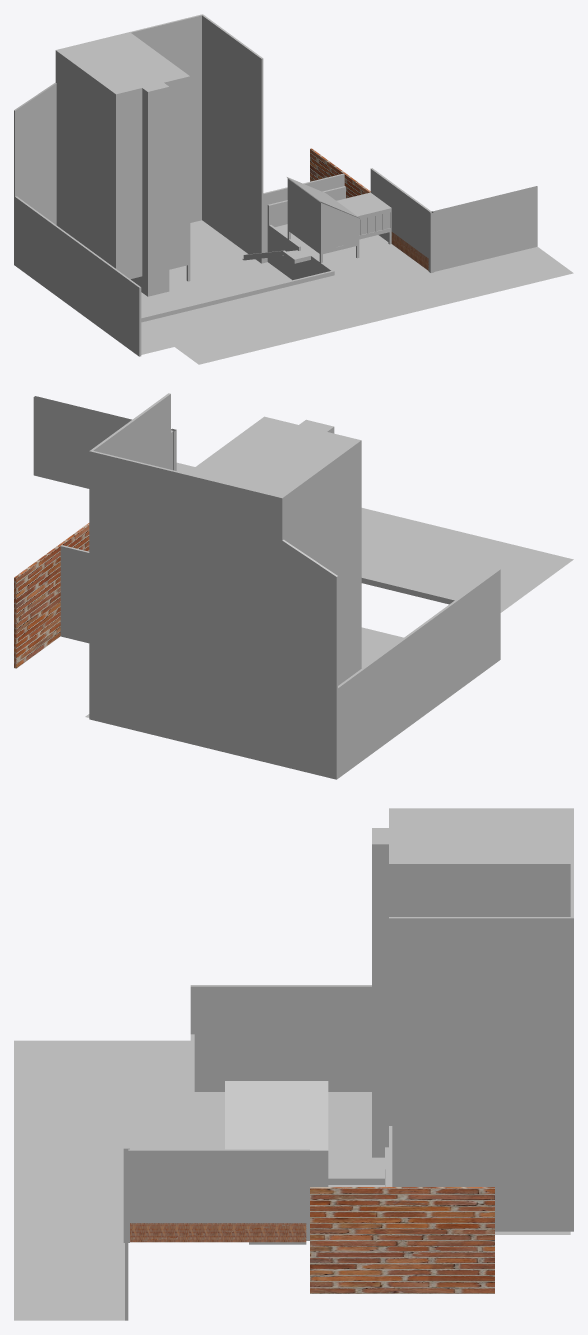
File: cu_engineering.obj
The picture shows the model from 3 angles, top to bottom: view 1: azimuth 30°, elevation 25°; view 2: azimuth 150°, elevation 25°; view 3: azimuth 270°, elevation 25°; orthographic projection. The views are drawn at different scales.
Parts seen in each view (by area): view 1: Cube.032_Cube.036, Cube.030_Cube.034, Cube.037_Cube.000, Plane.011_Plane.001, Cube.054_Cube.056, Cube.036_Cube.040, Cube.038_Cube.008, Cube.033_Cube.037, Plane.004_Plane.006, Plane.009_Plane.011, Cube.010_Cube.012, Plane.010_Plane.012 (+15 smaller); view 2: Cube.032_Cube.036, Cube.033_Cube.037, Cube.037_Cube.000, Cube.038_Cube.008, Plane.011_Plane.001, Cube.054_Cube.056, Cube.017_Cube.019, Cube.030_Cube.034, Plane.004_Plane.006, Cube.021_Cube.023, Cube.039_Cube.025, Plane.009_Plane.011 (+2 smaller); view 3: Cube.030_Cube.034, Cube.017_Cube.019, Cube.032_Cube.036, Cube.037_Cube.000, Plane.011_Plane.001, Cube.031_Cube.035, Cube.010_Cube.012, Plane.004_Plane.006, Cube.036_Cube.040, Plane.009_Plane.011, Plane.015, Plane.013 (+3 smaller).
Part boxes in pixels (bbox=[...]): Cube.032_Cube.036: bbox=[55, 32, 190, 279]; Cube.030_Cube.034: bbox=[201, 14, 263, 263]; Cube.037_Cube.000: bbox=[15, 196, 141, 356]; Plane.011_Plane.001: bbox=[163, 291, 389, 364]; Cube.054_Cube.056: bbox=[432, 186, 537, 271]; Cube.036_Cube.040: bbox=[130, 74, 169, 296]; Cube.038_Cube.008: bbox=[14, 82, 56, 265]; Cube.033_Cube.037: bbox=[130, 14, 201, 222]; Plane.004_Plane.006: bbox=[141, 276, 353, 338]; Plane.009_Plane.011: bbox=[141, 262, 291, 354]; Cube.010_Cube.012: bbox=[287, 177, 359, 254]; Plane.010_Plane.012: bbox=[141, 220, 260, 292]; Cube.032_Cube.036: bbox=[185, 416, 361, 744]; Cube.033_Cube.037: bbox=[91, 450, 186, 742]; Cube.037_Cube.000: bbox=[338, 568, 500, 778]; Cube.038_Cube.008: bbox=[282, 539, 337, 779]; Plane.011_Plane.001: bbox=[361, 508, 573, 594]; Cube.054_Cube.056: bbox=[33, 396, 172, 488]; Cube.017_Cube.019: bbox=[14, 523, 89, 668]; Cube.030_Cube.034: bbox=[89, 393, 170, 719]; Plane.004_Plane.006: bbox=[361, 554, 525, 612]; Cube.021_Cube.023: bbox=[60, 545, 89, 643]; Cube.039_Cube.025: bbox=[185, 721, 282, 766]; Plane.009_Plane.011: bbox=[361, 627, 403, 668]; Cube.030_Cube.034: bbox=[389, 917, 573, 1231]; Cube.017_Cube.019: bbox=[310, 1187, 494, 1293]; Cube.032_Cube.036: bbox=[389, 808, 573, 916]; Cube.037_Cube.000: bbox=[190, 985, 371, 1091]; Plane.011_Plane.001: bbox=[14, 1040, 124, 1183]; Cube.031_Cube.035: bbox=[128, 1149, 309, 1223]; Cube.010_Cube.012: bbox=[225, 1081, 328, 1186]; Plane.004_Plane.006: bbox=[125, 1040, 190, 1149]; Cube.036_Cube.040: bbox=[372, 828, 425, 1157]; Plane.009_Plane.011: bbox=[194, 1092, 384, 1177]; Plane.015: bbox=[14, 1212, 56, 1320]; Plane.013: bbox=[82, 1212, 124, 1320].
Bounding box in the file's own units: 614 × 319 × 517.
